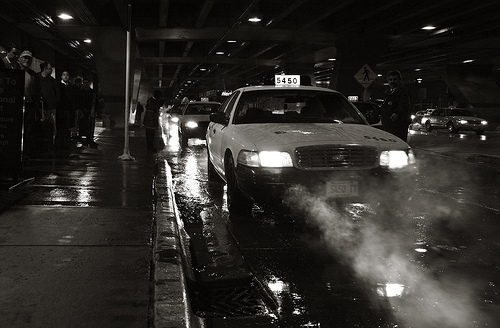car: (175, 101, 227, 150)
